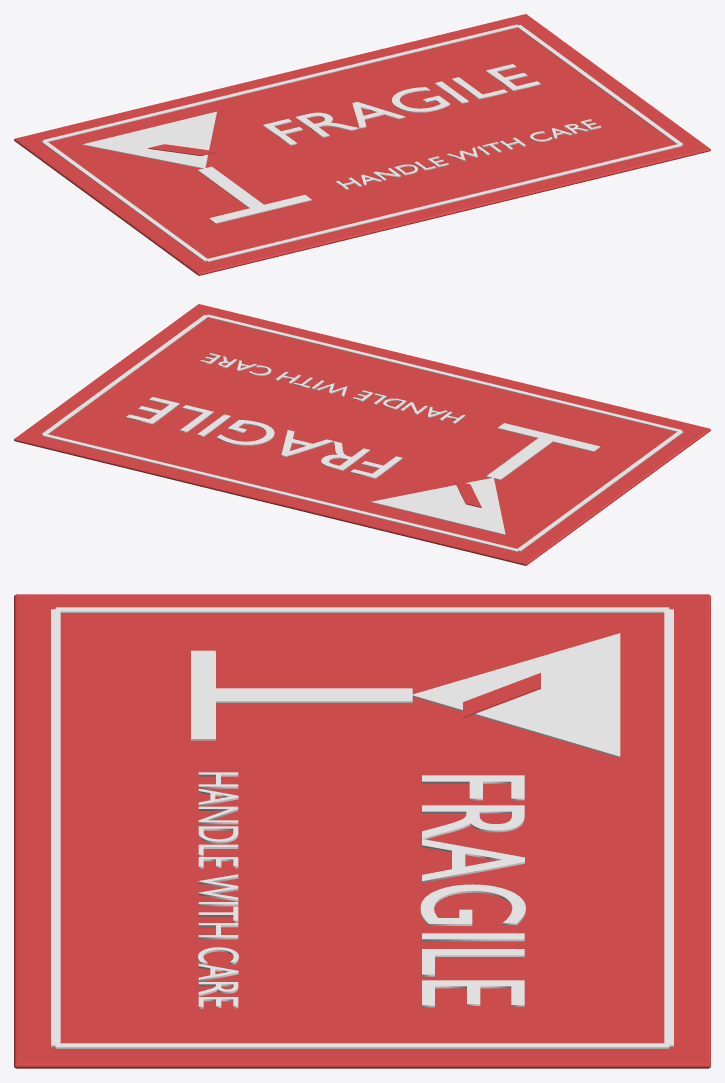
File: fragile_label.glb
The picture shows the model from 3 angles, top to bottom: view 1: azimuth 30°, elevation 25°; view 2: azimuth 150°, elevation 25°; view 3: azimuth 270°, elevation 25°; orthographic projection. The views are drawn at different scales.
Visible parts, largest first — view 1: fragile_label_base, fragile_label_frame, fragile_label_glass, fragile_label_fragil, fragile_label_handle, fragile_label_crack; view 2: fragile_label_base, fragile_label_frame, fragile_label_glass, fragile_label_fragil, fragile_label_handle; view 3: fragile_label_base, fragile_label_glass, fragile_label_frame, fragile_label_fragil, fragile_label_handle, fragile_label_crack.
Boxes of the visible parts, x1,y1,x2,y2 form: fragile_label_base: (14, 14, 710, 275); fragile_label_frame: (41, 24, 683, 261); fragile_label_glass: (82, 111, 311, 223); fragile_label_fragil: (263, 64, 540, 145); fragile_label_handle: (335, 119, 601, 189); fragile_label_crack: (148, 144, 217, 155); fragile_label_base: (14, 304, 710, 565); fragile_label_frame: (41, 314, 683, 551); fragile_label_glass: (371, 423, 600, 535); fragile_label_fragil: (126, 397, 402, 478); fragile_label_handle: (200, 353, 465, 423); fragile_label_base: (14, 594, 710, 1068); fragile_label_glass: (191, 633, 620, 757); fragile_label_frame: (51, 607, 673, 1048); fragile_label_fragil: (420, 775, 525, 1007); fragile_label_handle: (198, 772, 238, 1008); fragile_label_crack: (463, 673, 540, 718).
Size of the model in its own units: 0.08 by 0.00064 by 0.05.
